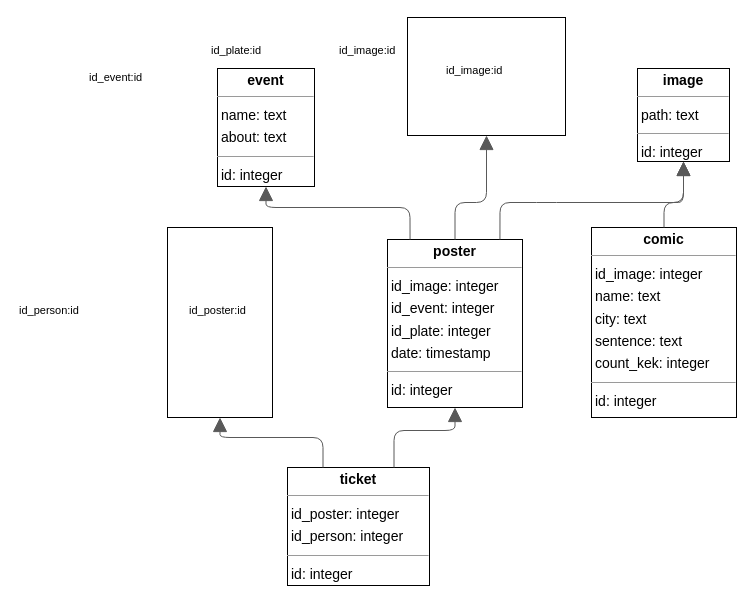
The diagram is 754 pixels wide and 603 high, and some of its shapes have lost their labels. Here are the shapes that lost their labels. From the top down, the centre of each, then its label:
At point 486,76: "place name: text count_ticket: integer id: integer".
At point 219,322: "person login: text email: text salt: text hash: text role: integer id: integer".
